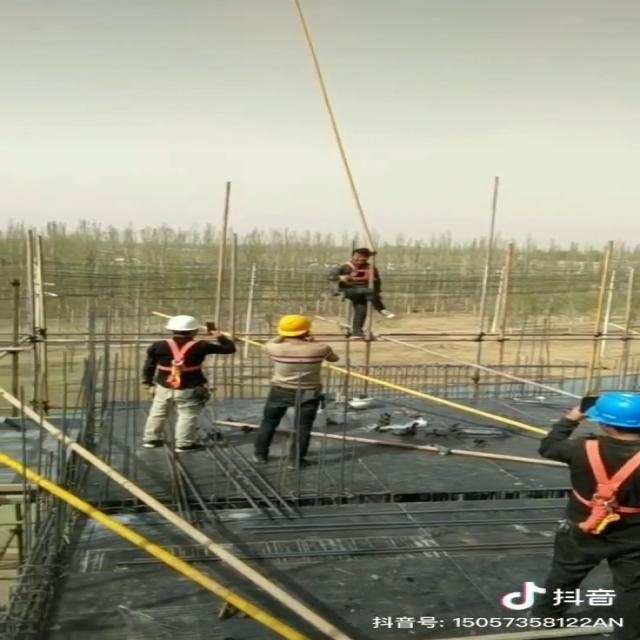Arnes_seguridad: (554, 431, 639, 541), (145, 336, 208, 389), (332, 261, 378, 290)
